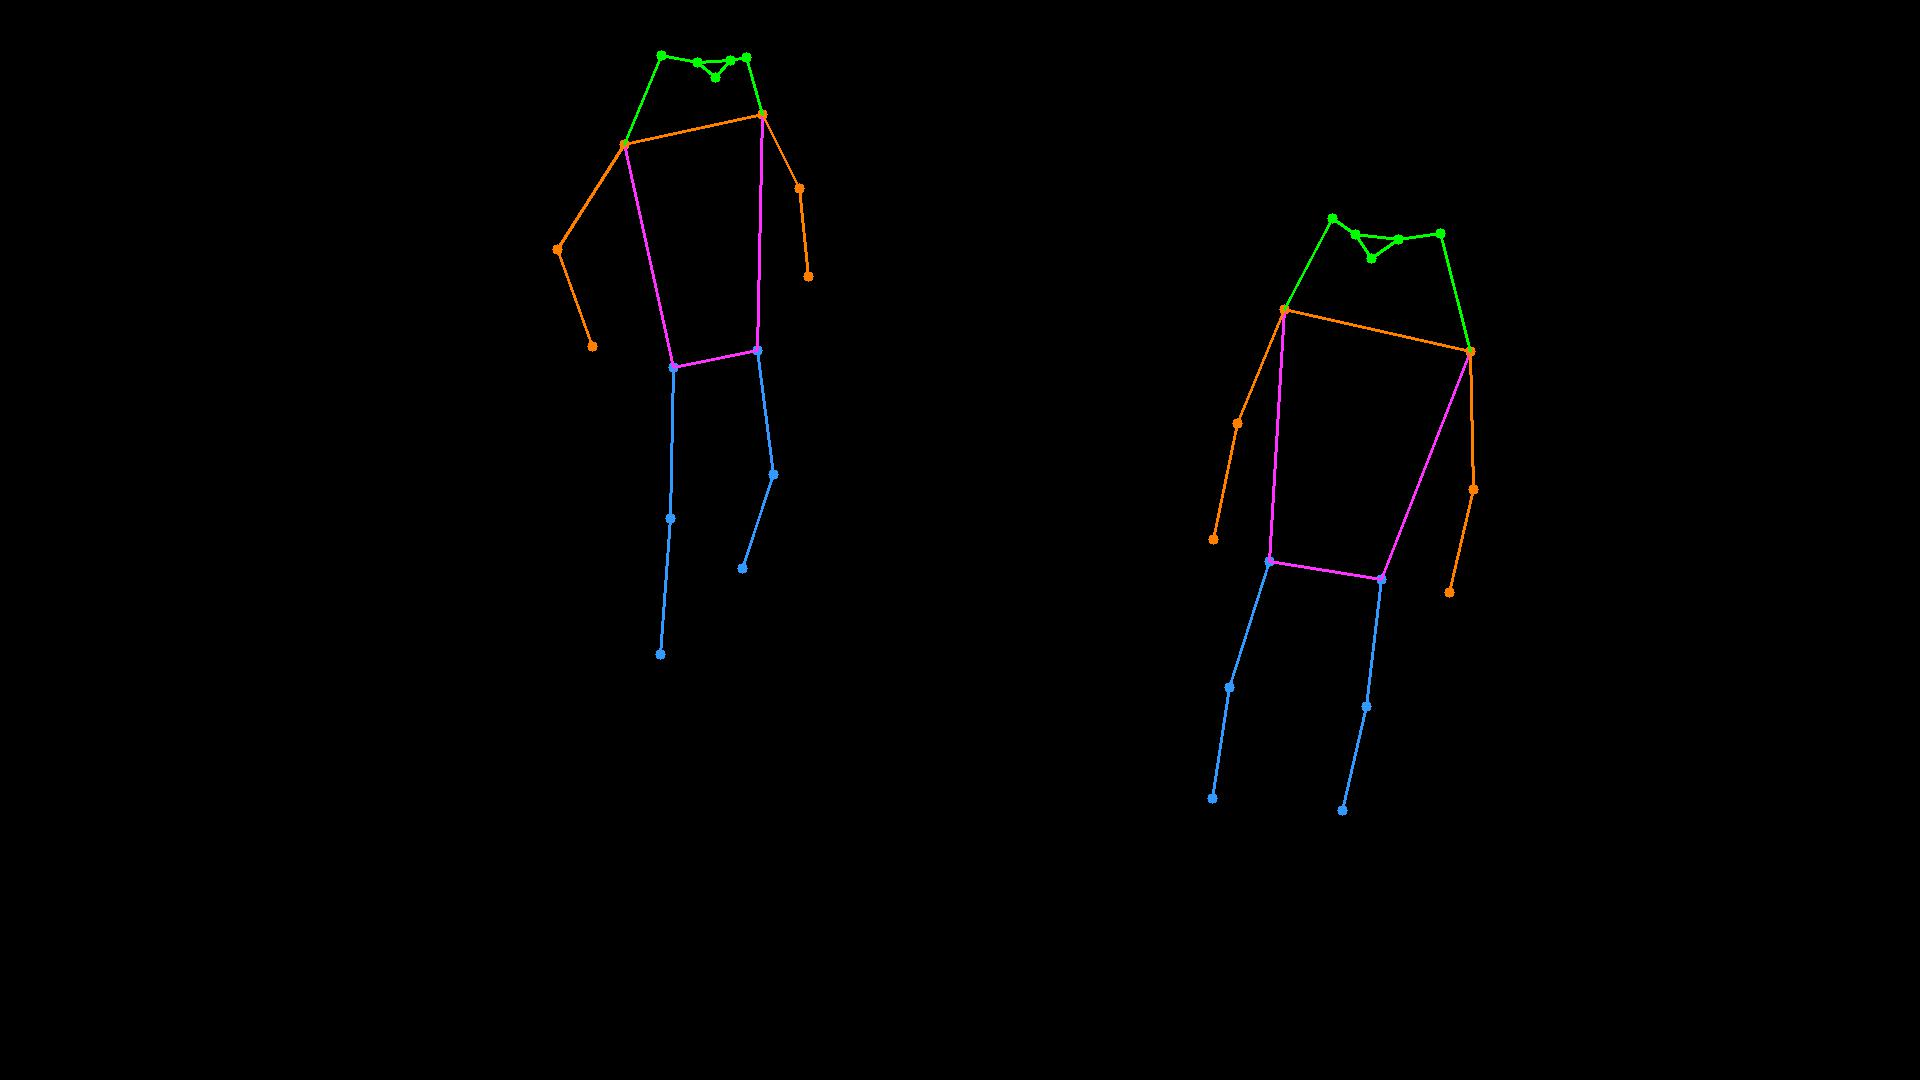normal: (1108, 171, 1551, 858), (495, 17, 895, 709)
